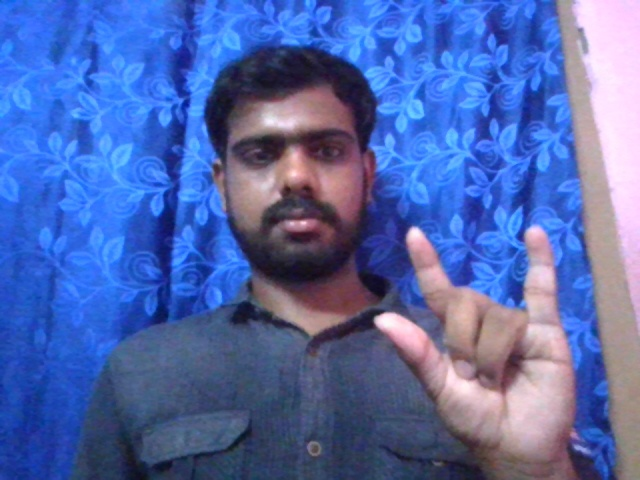IloveYou: (369, 223, 588, 465)
